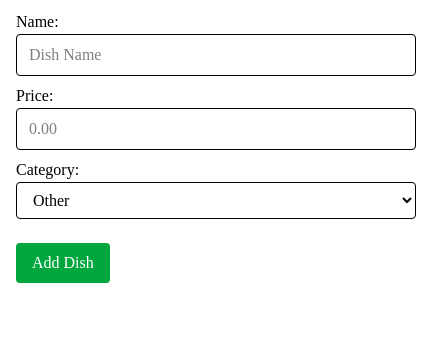
Scenario: AddDish component › form submission + success message
Type "Sata Andagi" into the field with placeholder "Dish Name".
click(216, 55); type("Sata Andagi")  # box [16,34,416,76]
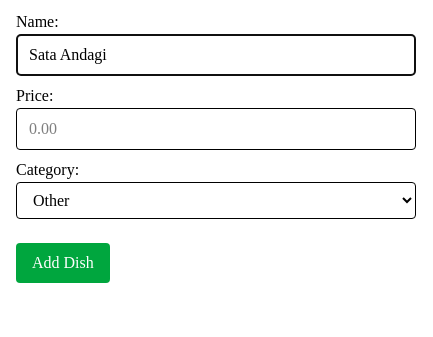
Type "12.95" into the number field with placeholder "0.00".
click(216, 129); type("12.95")  # box [16,108,416,150]
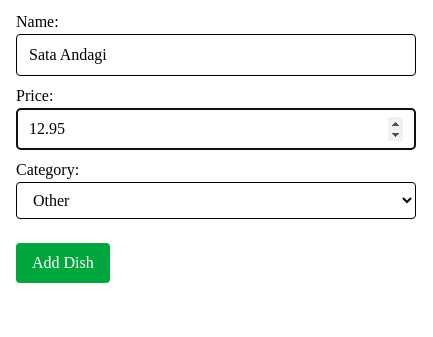
Select "Other" in the dropdown at (216, 200), box [16,182,416,219]
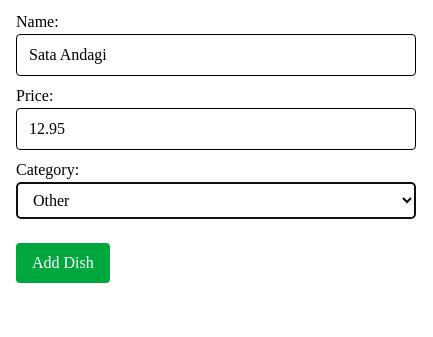
Click the button "Add Dish".
click(63, 263)  # box [16,243,110,283]
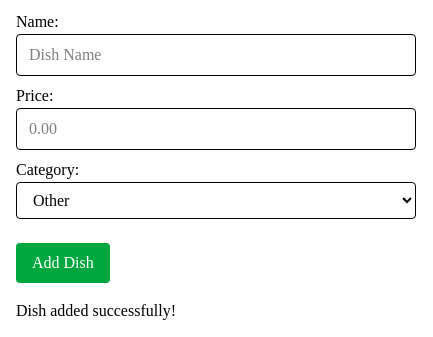
Now the text "Dish added successfully!" is shown, box [16,302,176,319]
